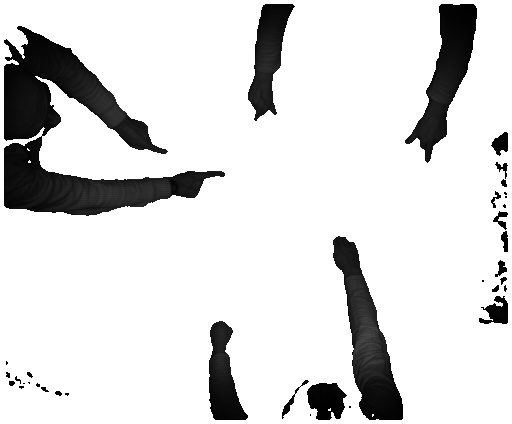fist: (208, 320, 239, 353)
hand: (401, 111, 455, 167), (120, 115, 167, 159), (174, 170, 231, 199), (328, 232, 367, 273), (248, 77, 279, 127)
